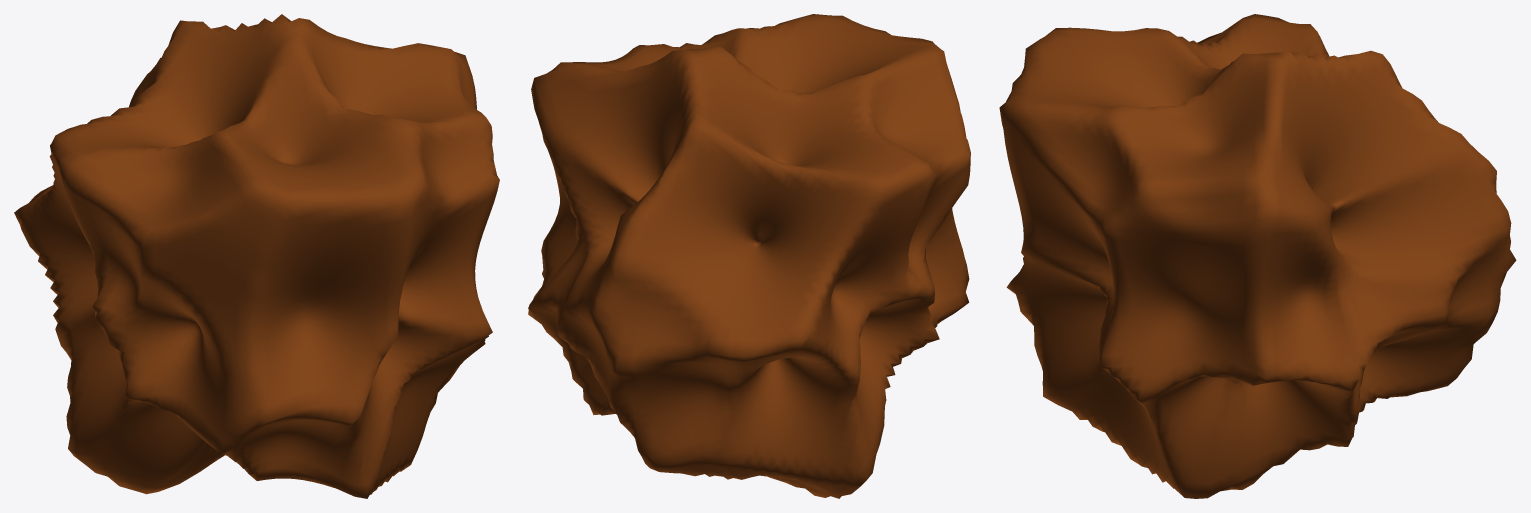
The model's file is asteroid5.fbx.
The picture shows the model from 3 angles, left to right: view 1: azimuth 30°, elevation 25°; view 2: azimuth 150°, elevation 25°; view 3: azimuth 270°, elevation 25°; orthographic projection. The views are drawn at different scales.
Parts seen in each view (by area): view 1: Cube; view 2: Cube; view 3: Cube.
Boxes of the visible parts, box(x1,y1,x2,y2) form: Cube: box(14, 14, 499, 498); Cube: box(528, 14, 970, 498); Cube: box(999, 14, 1516, 498).
Bounding box in the file's own units: 181 × 183 × 203.
